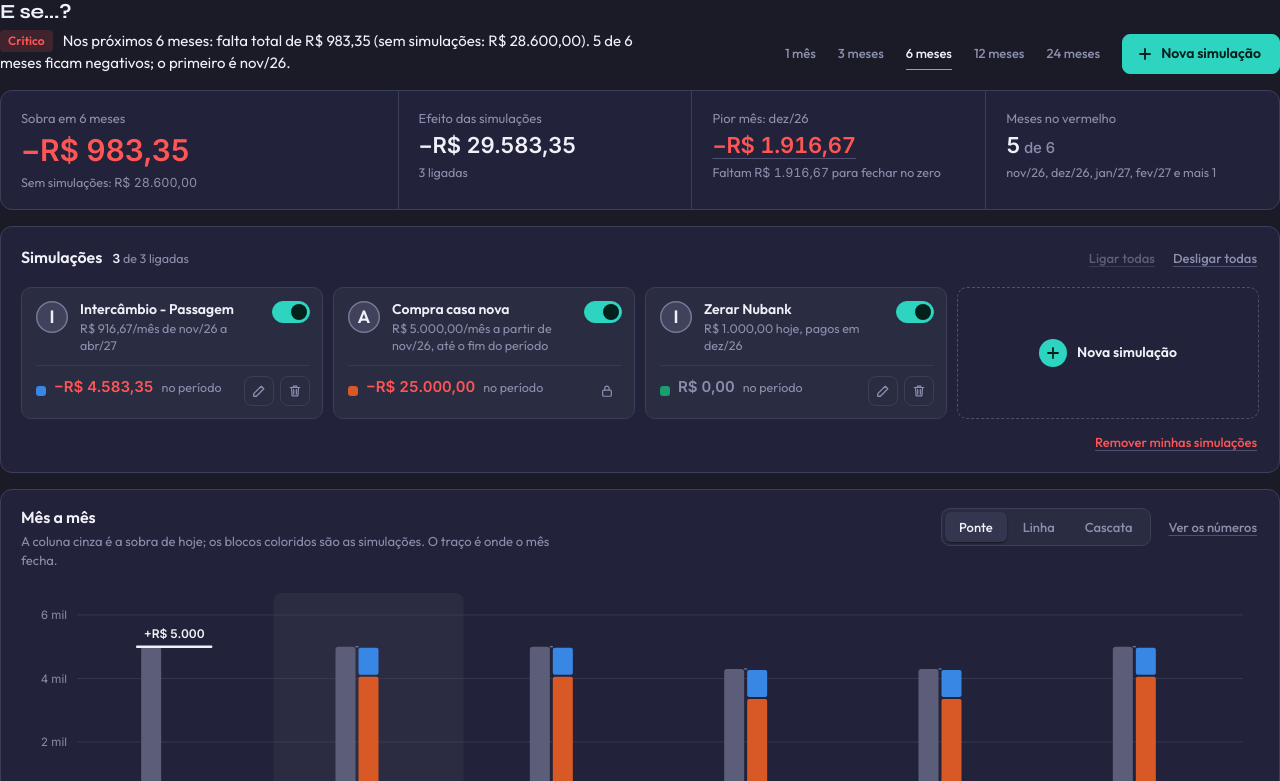
Scenario: WhatIfView: quitar parcelas do cartão › editar uma quitação salva reabre com os cartões escolhidos
Click the button named "Editar Zerar Nubank": (883, 391) [868,376,898,406]
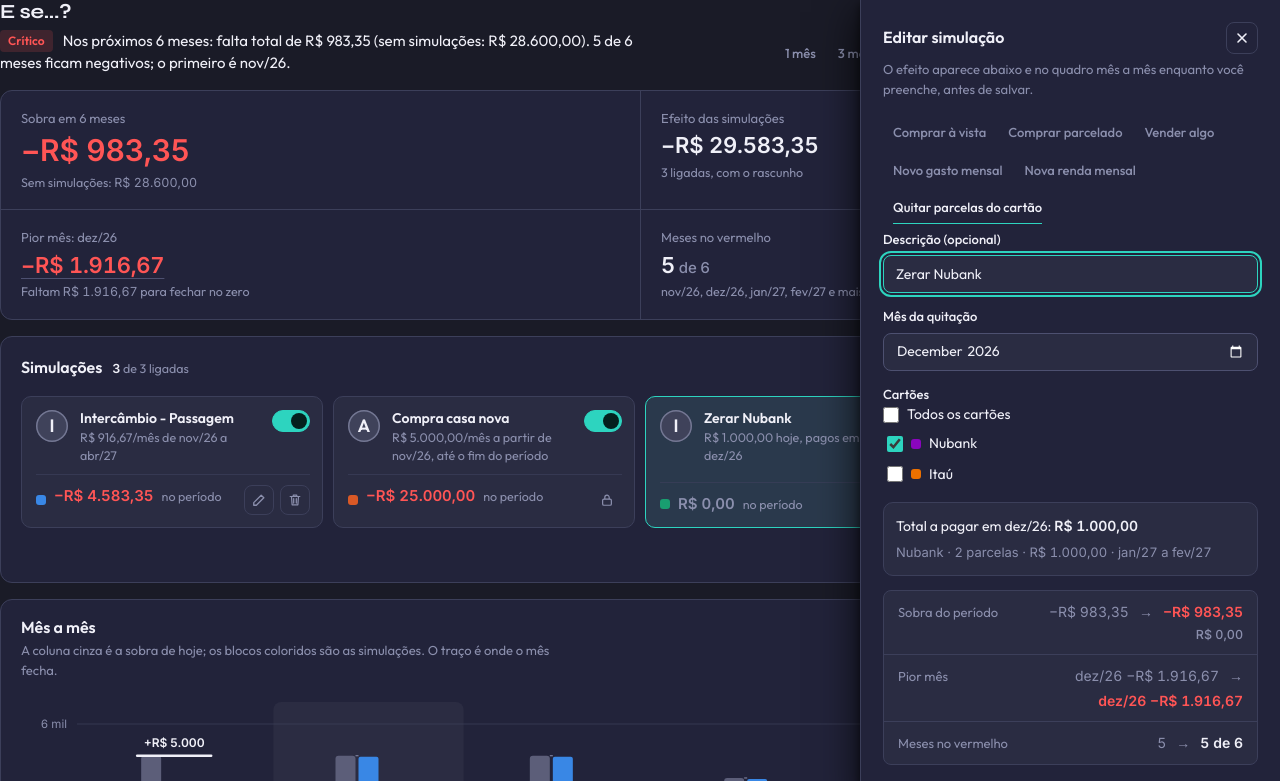
Result: the checkbox labelled "Todos os cartões" is not checked at [883,406,899,422]
Result: the checkbox labelled "Nubank" is checked at [887,436,903,452]
Result: the checkbox labelled "Itaú" is not checked at [887,466,903,482]
